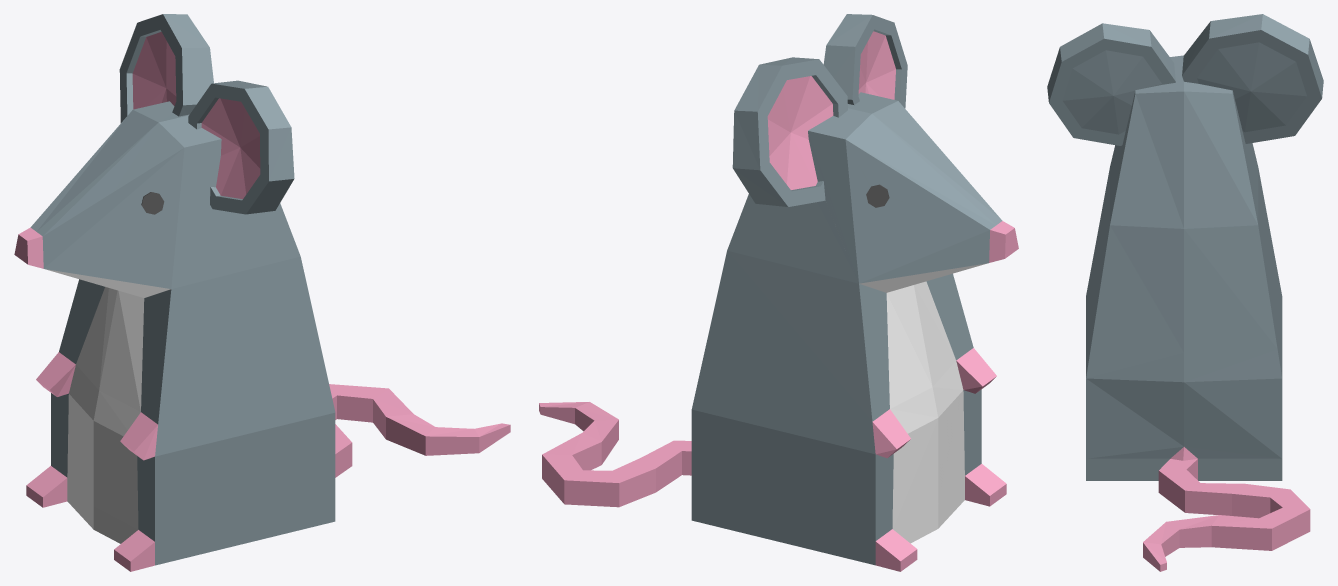
3 views of the same model, side by side, from view 1: azimuth 30°, elevation 25°; view 2: azimuth 150°, elevation 25°; view 3: azimuth 270°, elevation 25° (orthographic). The views are drawn at different scales.
Bounding box in the file's own units: 3 × 2.76 × 1.6.
